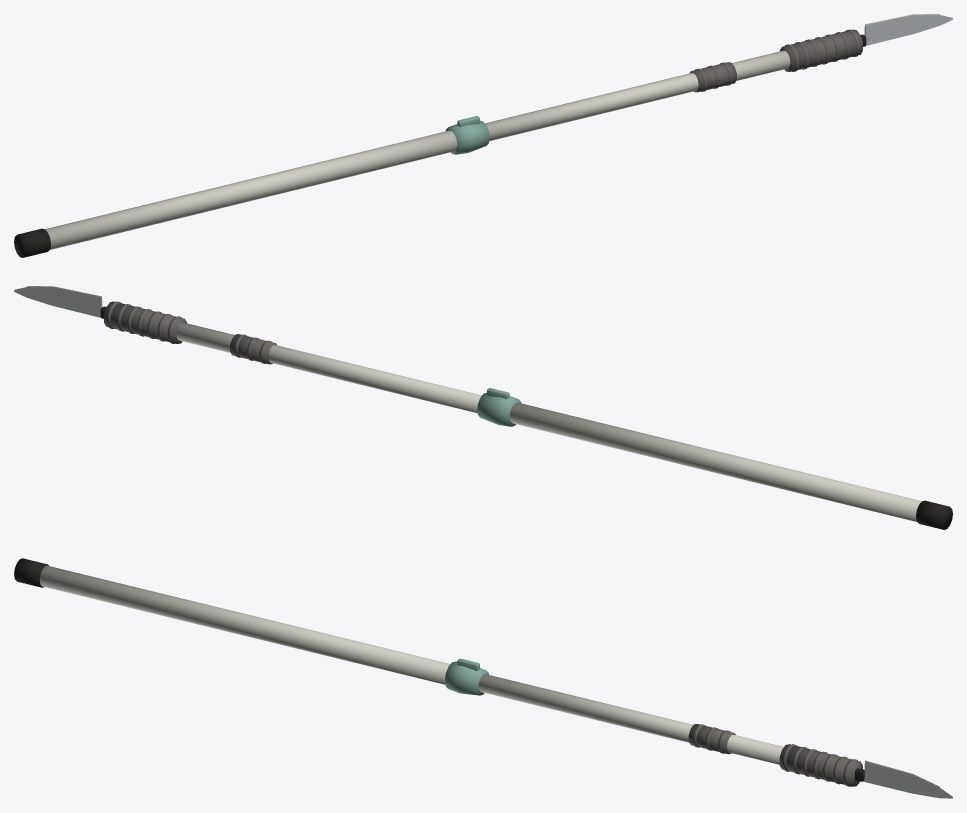
Rendered from item_pool_pole_spear.glb.
3 renders of one model, top to bottom at view 1: azimuth 30°, elevation 25°; view 2: azimuth 150°, elevation 25°; view 3: azimuth 330°, elevation 25°, orthographic.
Visible parts, largest first — view 1: pole_low, pole_high, blade, tape, collar, cap, old_tape; view 2: pole_low, pole_high, blade, tape, collar, cap, old_tape; view 3: pole_low, pole_high, tape, blade, collar, old_tape, cap.
Boxes of the visible parts, x1,y1,x2,y2 form: pole_low: (45,130,457,249); pole_high: (485,50,790,141); blade: (864,15,952,45); tape: (780,29,862,71); collar: (445,120,489,154); cap: (14,228,50,257); old_tape: (690,62,736,92); pole_low: (509,402,921,521); pole_high: (176,322,481,413); blade: (14,287,102,317); tape: (104,301,186,343); collar: (477,392,521,426); cap: (916,500,952,529); old_tape: (230,334,276,364); pole_low: (39,565,450,684); pole_high: (478,674,783,764); tape: (779,744,862,786); blade: (864,761,952,798); collar: (445,661,488,695); old_tape: (688,724,735,754); cap: (14,558,48,587).
Bounding box in the file's own units: 2.24 × 0.0738 × 0.0648.
